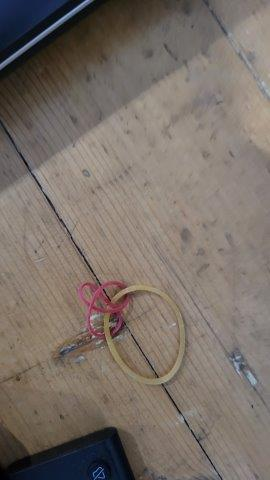karet: (81, 283, 185, 387)
